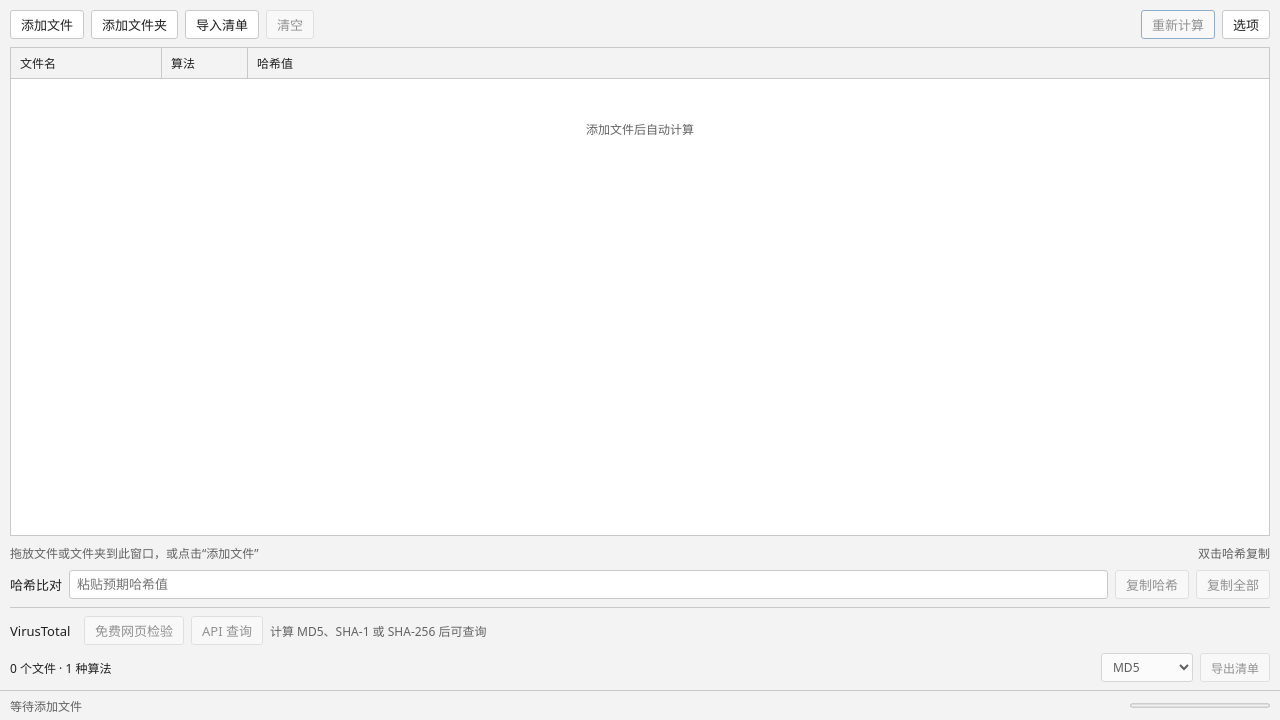
Test: exports the available algorithm when SHA-256 was not selected
Step 1. Click the button "选项" → [1246, 24], box [1222, 10, 1270, 39]
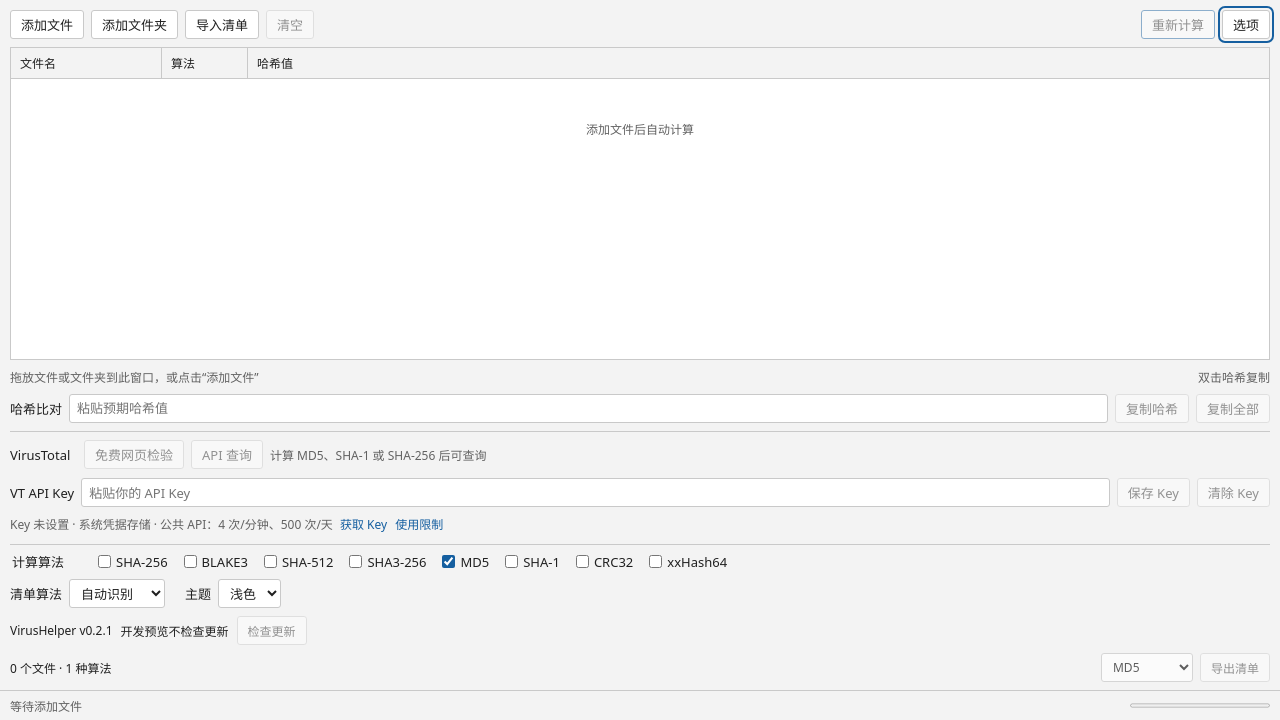
Step 2. Click the button "添加文件" → [47, 24], box [10, 10, 84, 39]
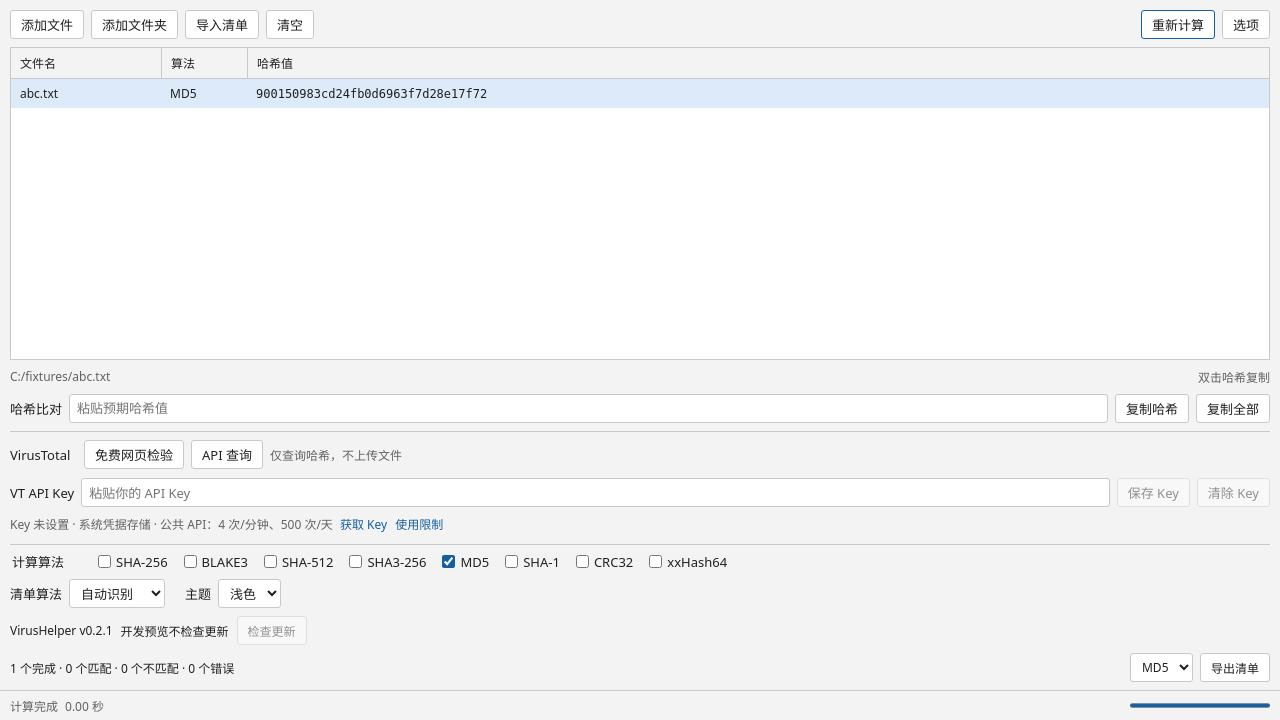
Expected: the dropdown named "导出算法" shows "MD5", [1130, 653, 1193, 682]
Expected: the text "900150983cd24fb0d6963f7d28e17f72" is shown, [256, 86, 487, 100]
Step 3. Click the button "导出清单" → [1235, 668], box [1200, 653, 1270, 682]
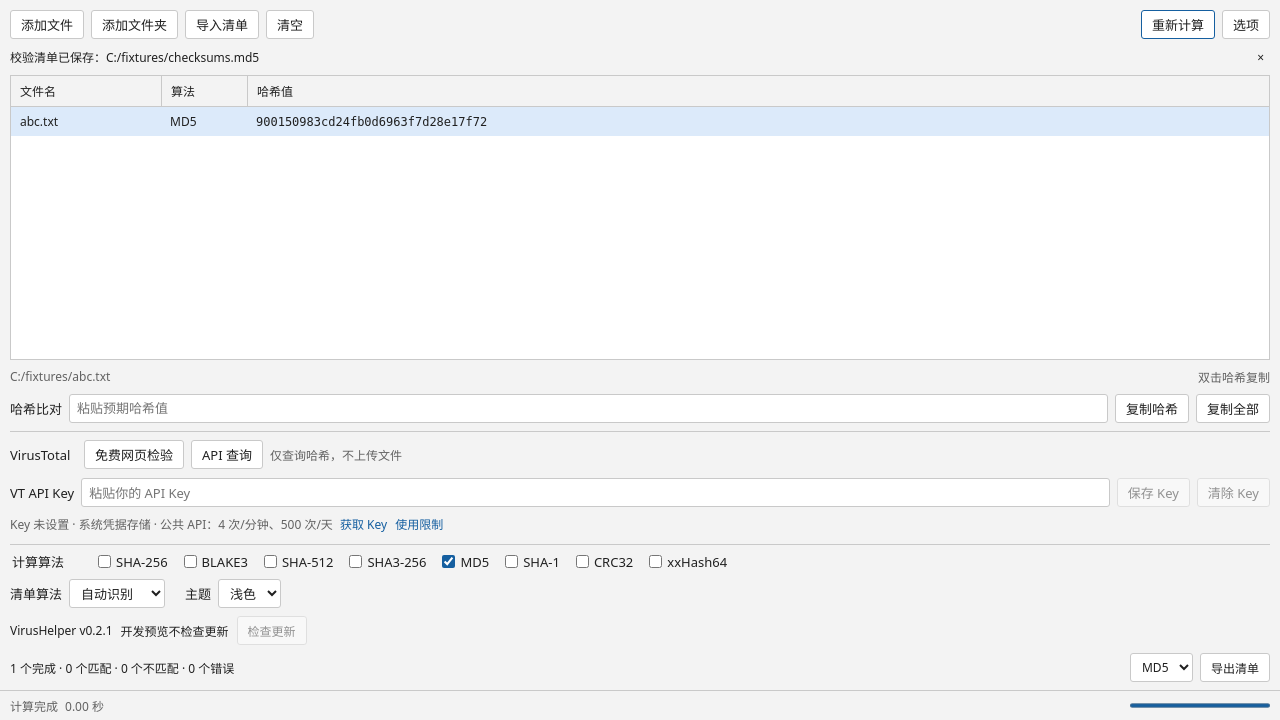
Expected: the text "校验清单已保存：C:/fixtures/checksums.md5" is shown, [10, 49, 259, 66]
